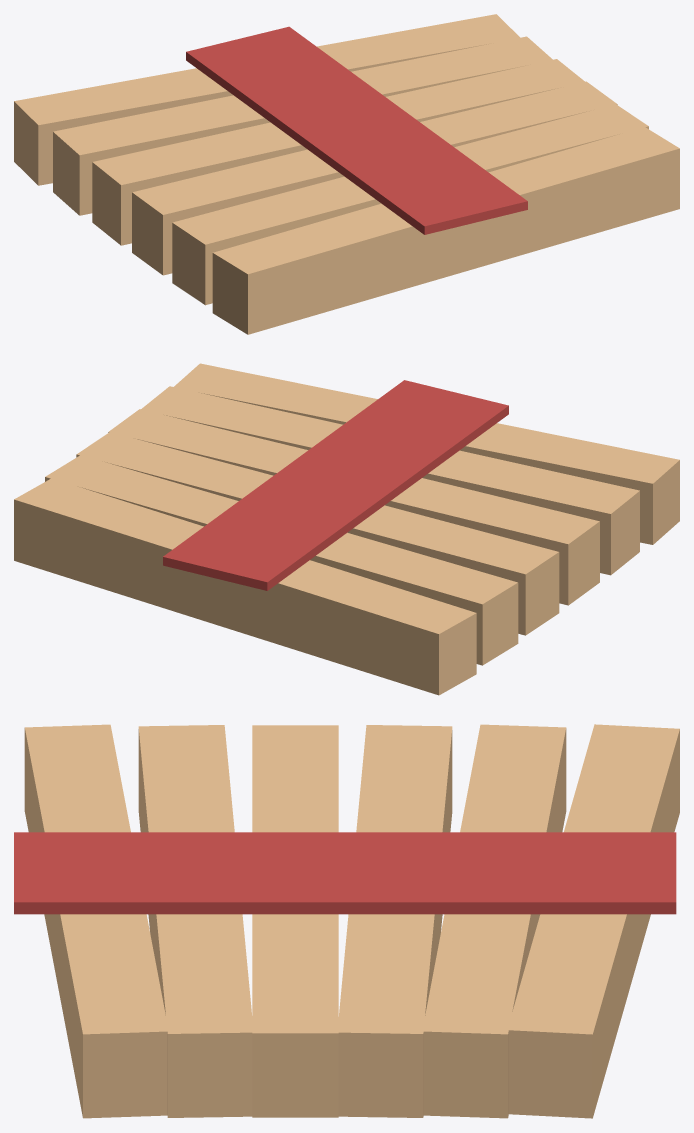
Rendered from noodles-raw.glb.
3 views of the same model, one above another, from view 1: azimuth 30°, elevation 25°; view 2: azimuth 150°, elevation 25°; view 3: azimuth 270°, elevation 25° (orthographic). The views are drawn at different scales.
Parts seen in each view (by area): view 1: noodles-raw; view 2: noodles-raw; view 3: noodles-raw.
Boxes of the visible parts, x1,y1,x2,y2 form: noodles-raw: (14,14,679,334); noodles-raw: (14,363,679,695); noodles-raw: (14,724,679,1118).
Bounding box in the file's own units: 0.2215 × 0.032 × 0.2011.
Materials: 1 (1 with a texture image).
